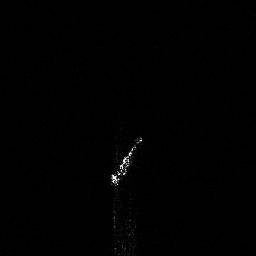ship: (104, 133, 145, 190)
